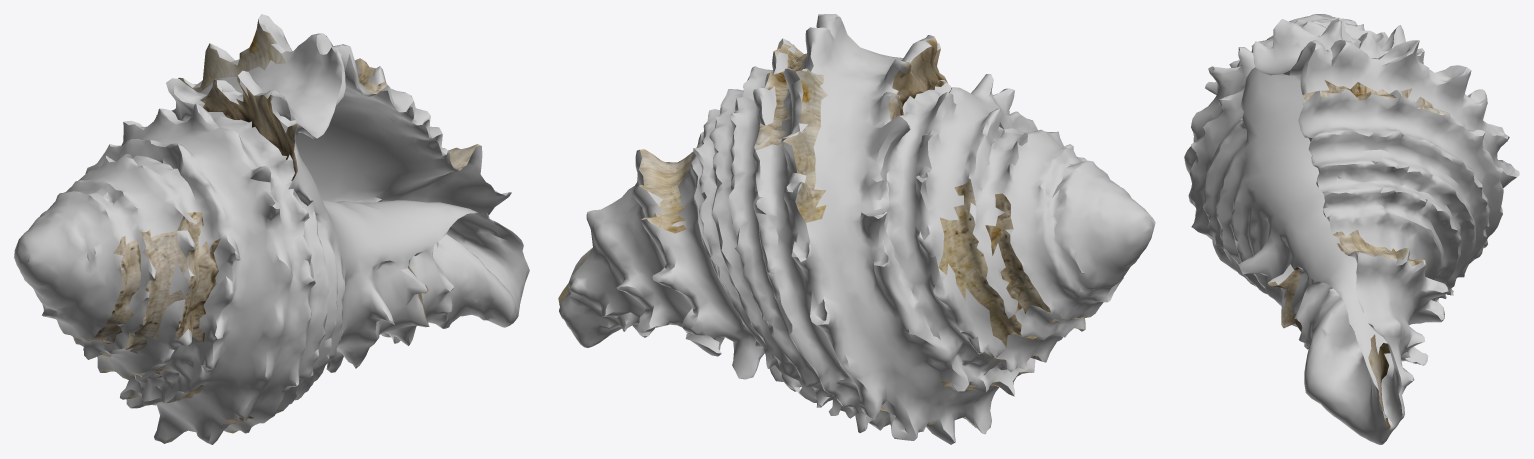
The model's file is seashellFossil_edit_for_FBX.fbx.
3 views of the same model, side by side, from view 1: azimuth 30°, elevation 25°; view 2: azimuth 150°, elevation 25°; view 3: azimuth 270°, elevation 25° (orthographic). The views are drawn at different scales.
Parts seen in each view (by area): view 1: seashellFossil; view 2: seashellFossil; view 3: seashellFossil.
Part boxes in pixels (left/top/right/bottom): seashellFossil: left=14, top=14, right=529, bottom=444; seashellFossil: left=558, top=14, right=1155, bottom=444; seashellFossil: left=1184, top=14, right=1519, bottom=444.
Size of the model in its own units: 4711 by 2986 by 2804.
